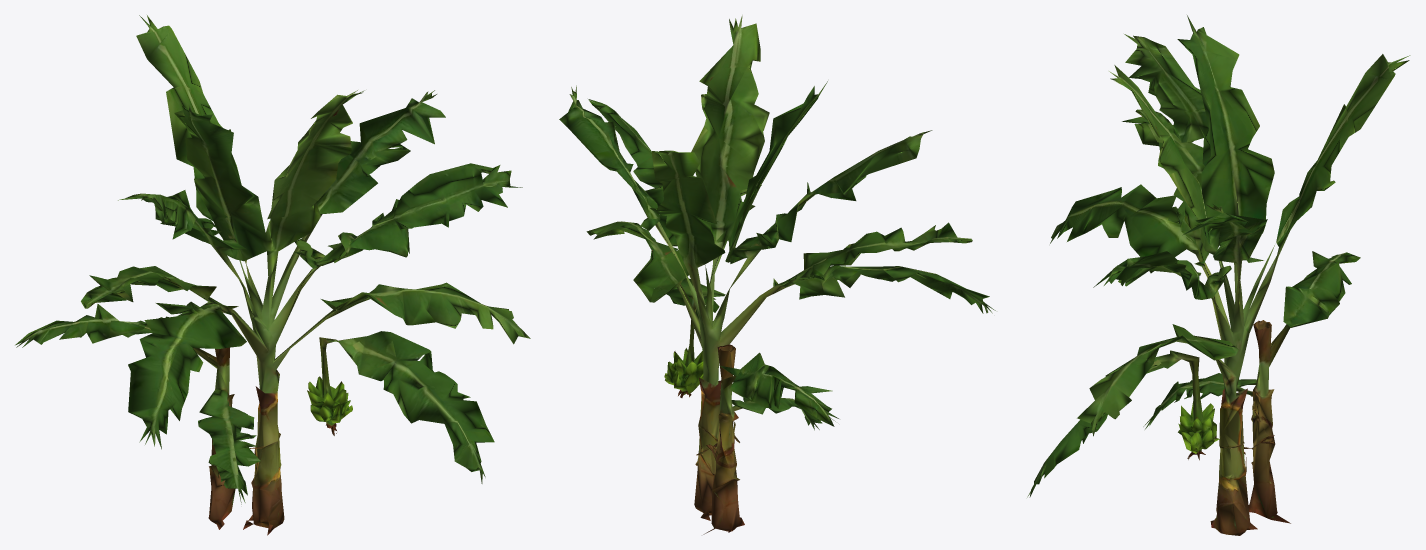
The model's file is banana-plant.glb.
3 renders of one model, left to right at view 1: azimuth 30°, elevation 25°; view 2: azimuth 150°, elevation 25°; view 3: azimuth 270°, elevation 25°, orthographic. The views are drawn at different scales.
Visible parts, largest first — view 1: tripo_node_f0c4da1c-6cc1-4239-ba32-c4e5aaedc921; view 2: tripo_node_f0c4da1c-6cc1-4239-ba32-c4e5aaedc921; view 3: tripo_node_f0c4da1c-6cc1-4239-ba32-c4e5aaedc921.
Boxes of the visible parts, x1,y1,x2,y2 form: tripo_node_f0c4da1c-6cc1-4239-ba32-c4e5aaedc921: (15, 15, 530, 535); tripo_node_f0c4da1c-6cc1-4239-ba32-c4e5aaedc921: (559, 15, 995, 534); tripo_node_f0c4da1c-6cc1-4239-ba32-c4e5aaedc921: (1027, 15, 1410, 535).
Size of the model in its own units: 0.9125 by 0.977 by 0.7162.
1 material, 1 textured.
